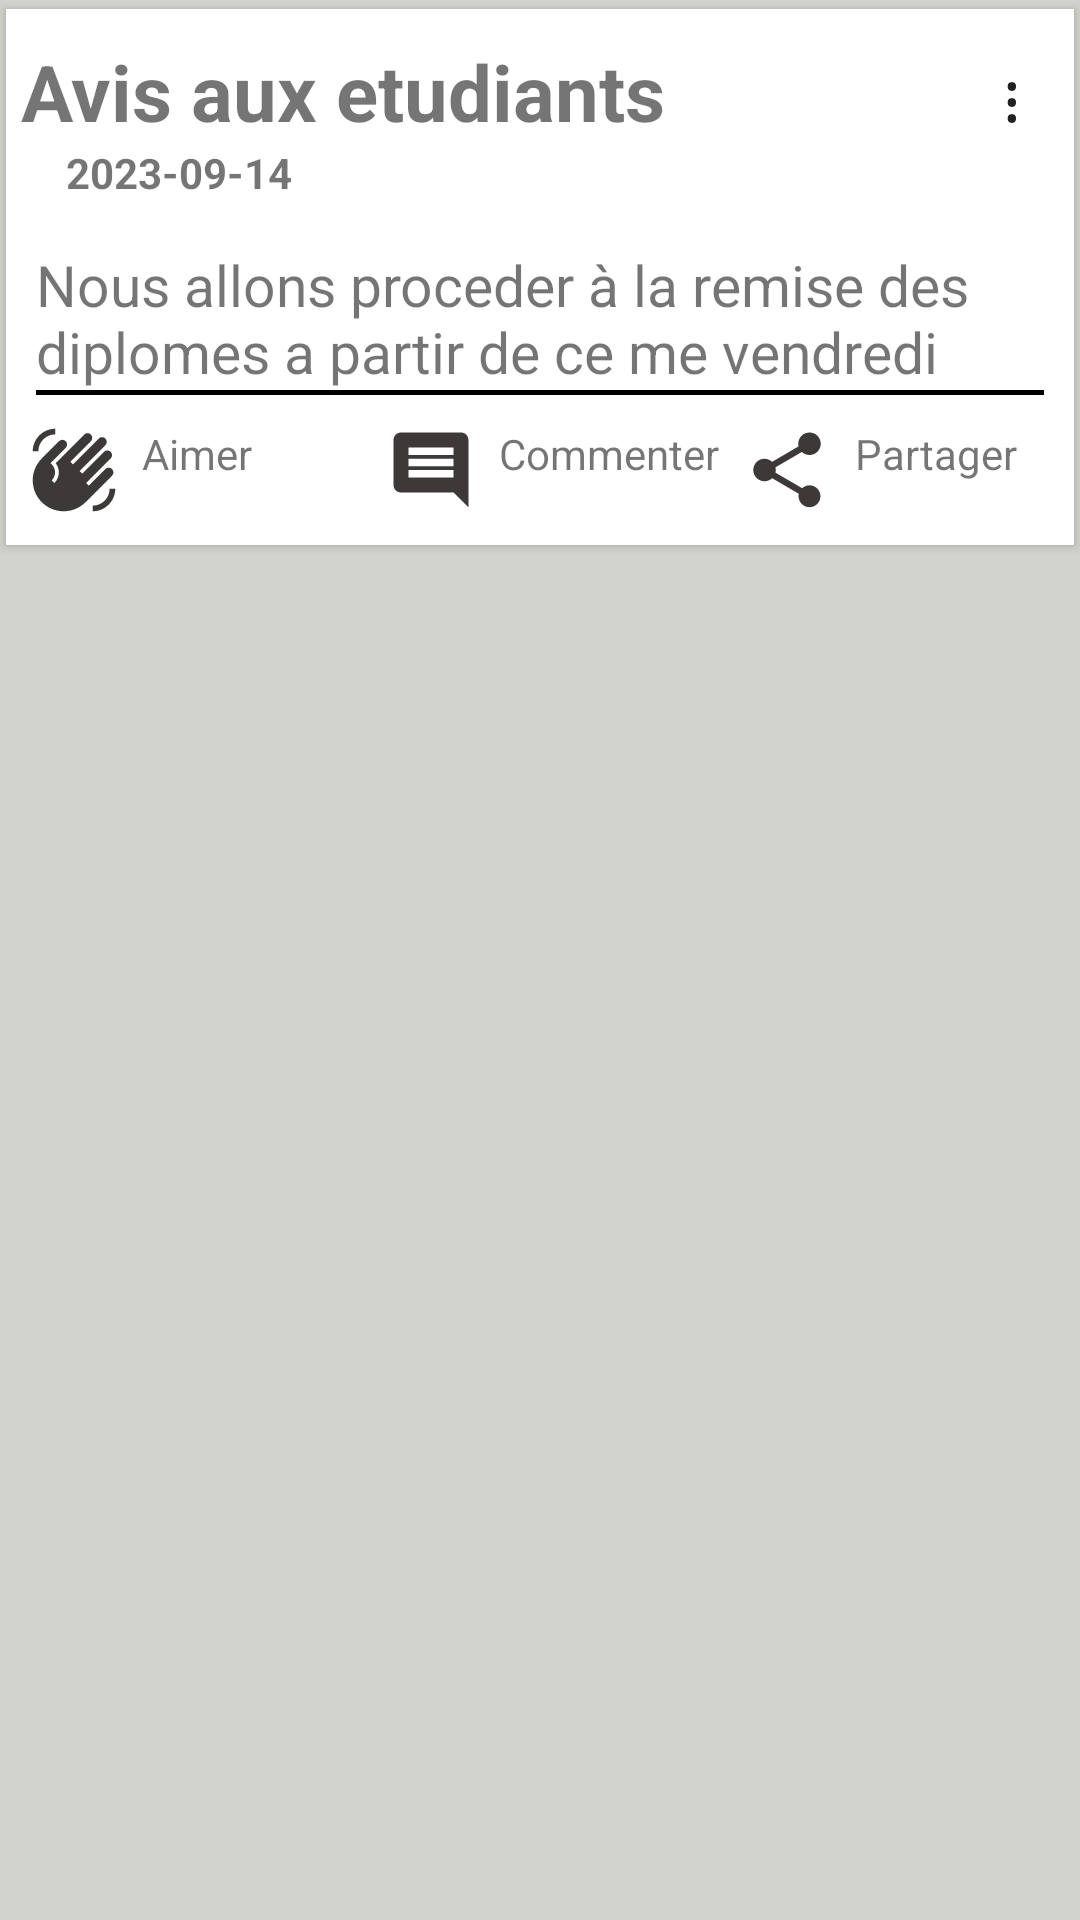

Point at icon controls on the screen. Image size 1080×1920, points as point (x, y).
share: point (787, 470)
waving hand: point (74, 470)
